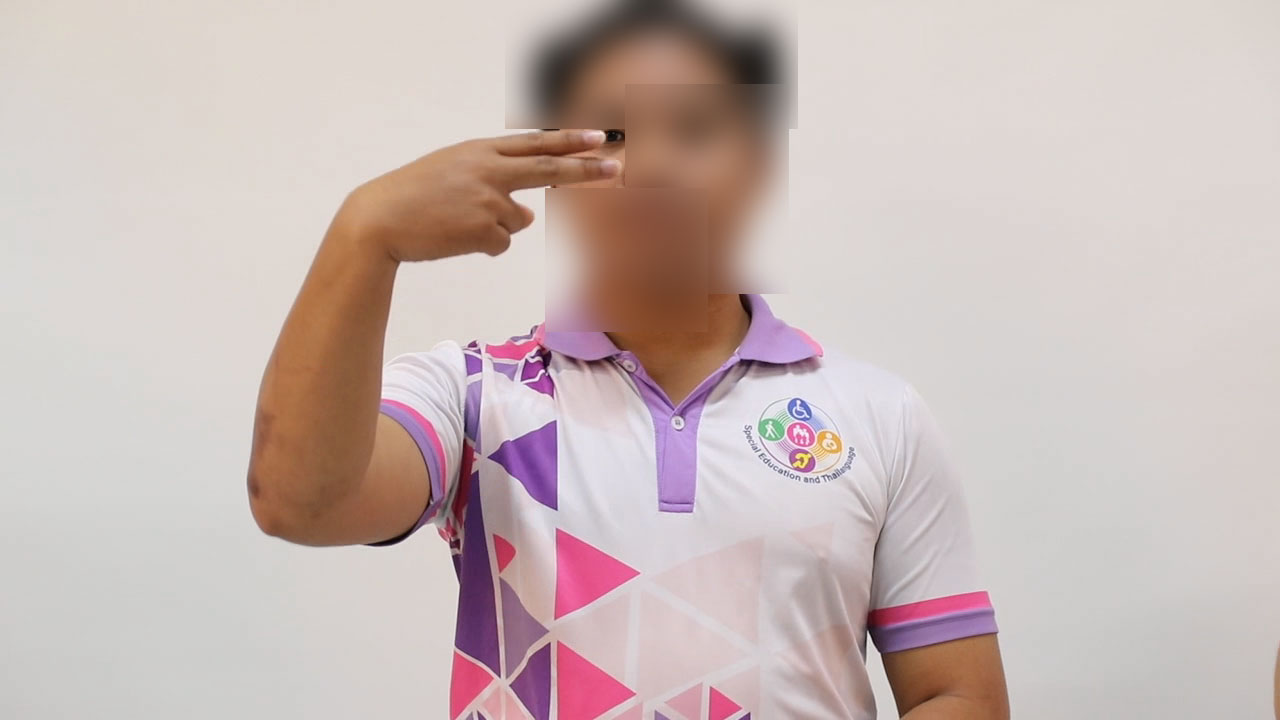hor: (323, 118, 632, 275)
